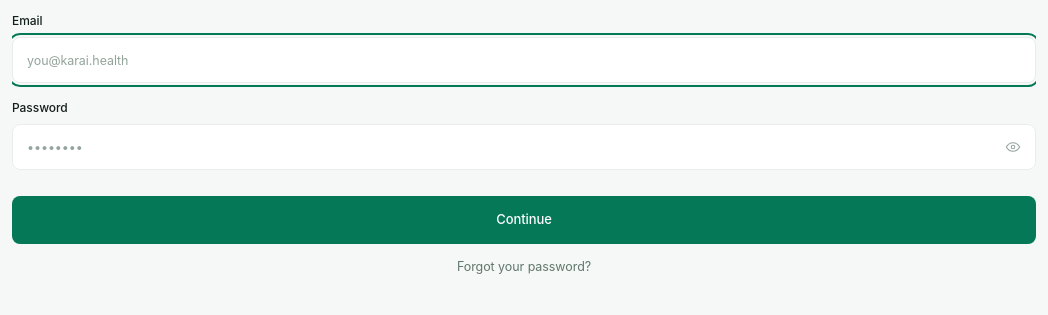
Test: LoginForm › rejects an invalid email before touching the network
Type "not-an-email" into the field labelled "Email". click: (524, 60)
box: x1=12 y1=37 x2=1036 y2=83
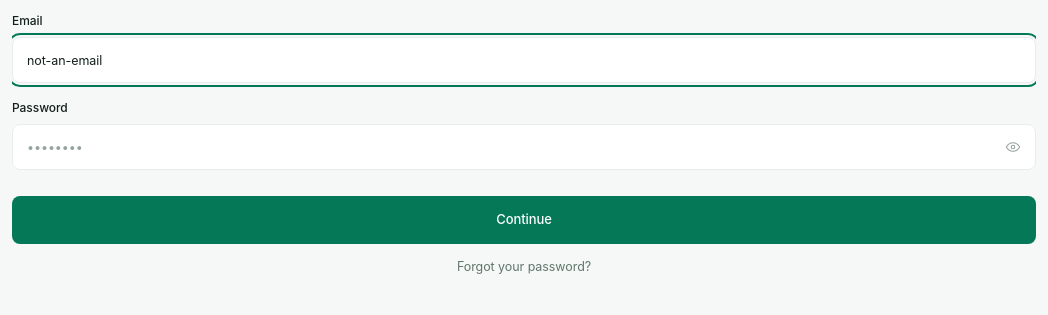
Type "Secret123!" into the password field labelled "Password". click: (524, 147)
box: x1=12 y1=124 x2=1036 y2=170
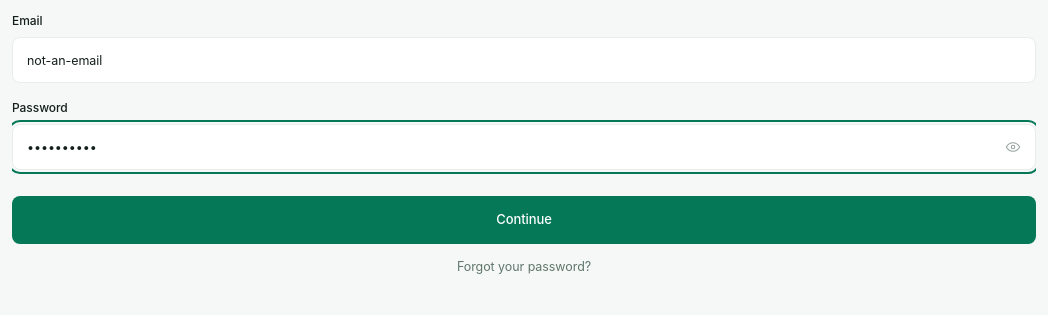
Click the button "Continue". click: (524, 220)
box: x1=12 y1=196 x2=1036 y2=244
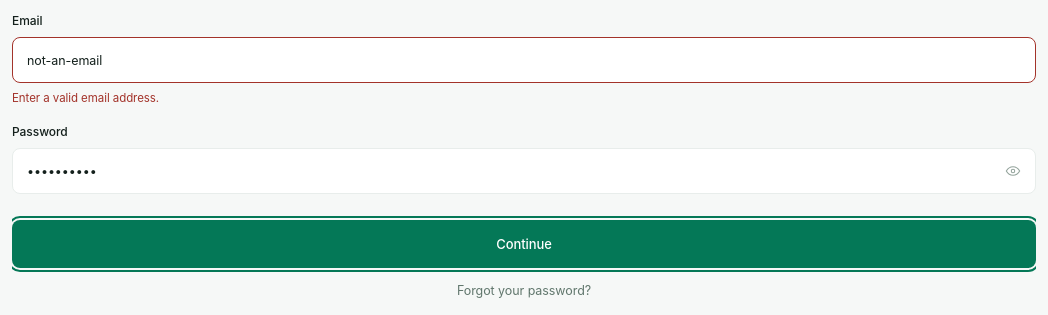
Check: the text "Enter a valid email address." is shown, box x1=12 y1=91 x2=159 y2=105
